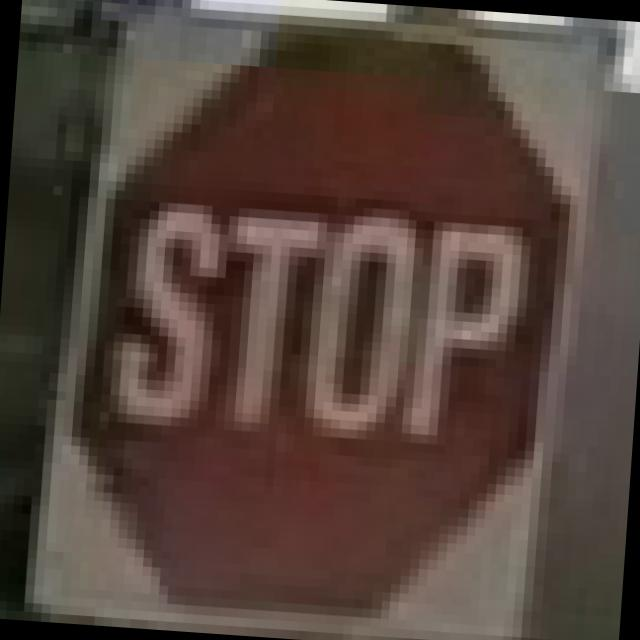mandatorystop_sign: (52, 1, 580, 629)
